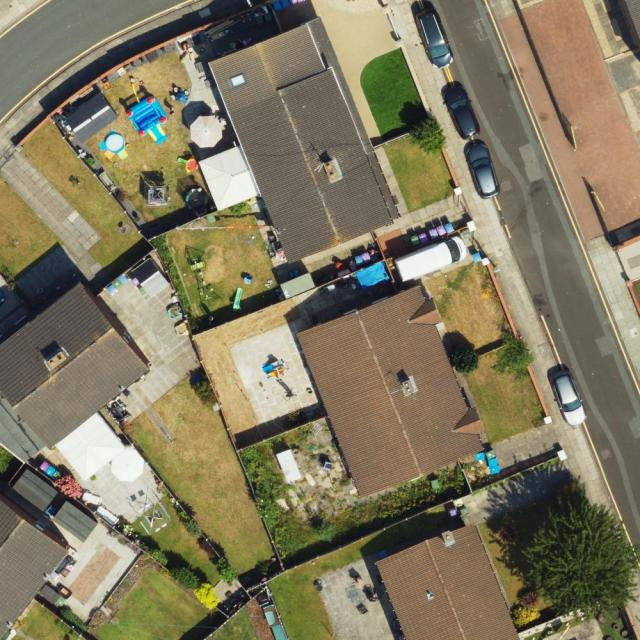roof: (199, 15, 405, 264), (296, 283, 485, 497), (0, 281, 151, 482), (375, 522, 521, 640), (0, 501, 67, 640)
skylight: (227, 71, 248, 92)
